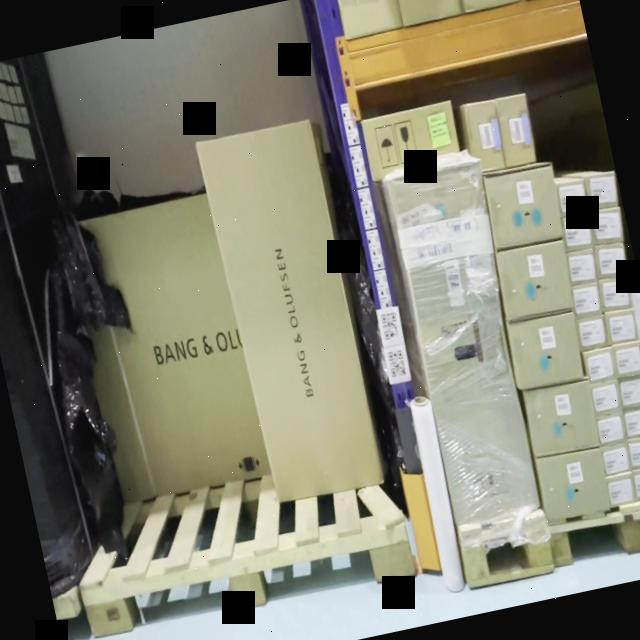box: (196, 122, 383, 503), (392, 164, 545, 533), (364, 105, 458, 178), (483, 166, 564, 250), (497, 242, 573, 321), (508, 314, 584, 389), (523, 382, 599, 455), (538, 450, 611, 519), (499, 96, 536, 167), (467, 101, 503, 169)
